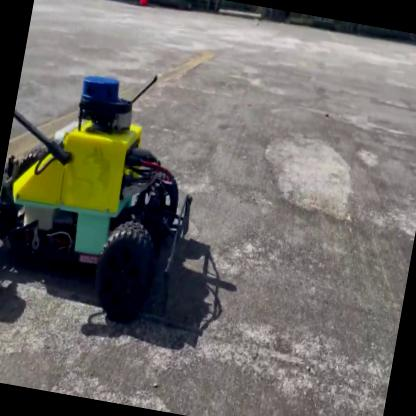cone: (137, 0, 153, 8)
mushr_car: (0, 48, 218, 347)
